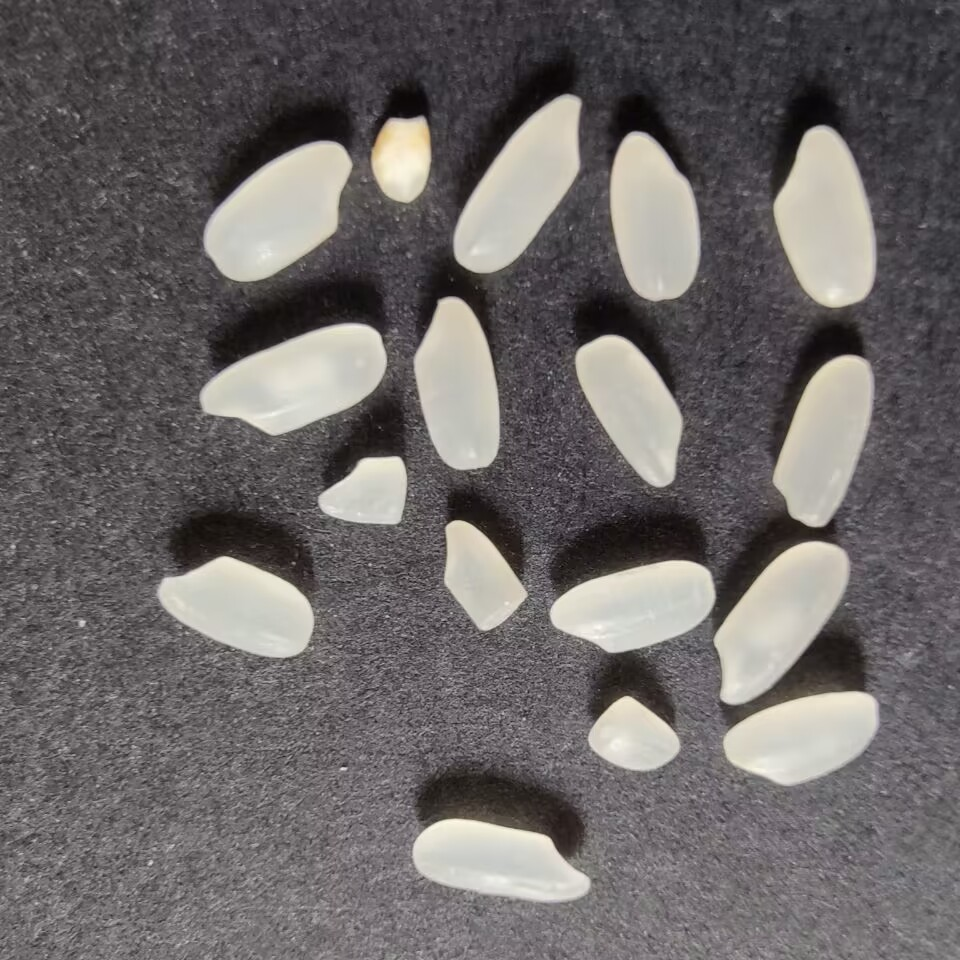broken: (437, 514, 533, 637), (583, 688, 683, 773), (318, 448, 411, 531), (362, 110, 439, 205)
rice: (449, 87, 589, 273), (708, 537, 857, 708), (198, 134, 352, 287), (194, 319, 391, 437), (768, 119, 881, 312), (769, 351, 880, 532), (148, 551, 321, 663), (569, 334, 688, 490), (410, 295, 512, 472), (544, 555, 722, 656), (606, 127, 708, 303), (404, 815, 602, 905), (718, 685, 883, 790)
